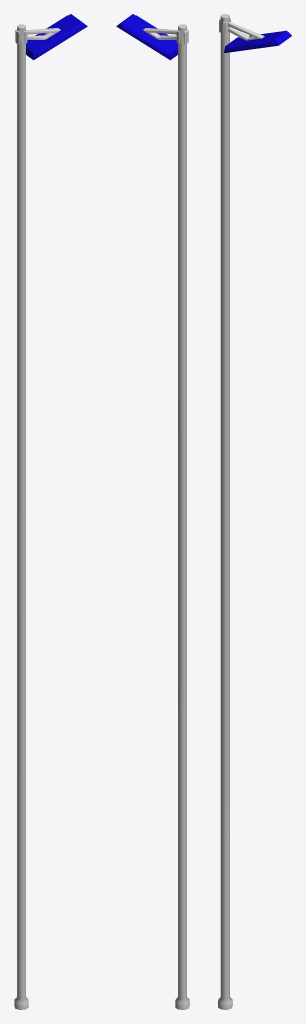
Rendered from LampPostTall.fbx.
3 views of the same model, side by side, from view 1: azimuth 30°, elevation 25°; view 2: azimuth 150°, elevation 25°; view 3: azimuth 330°, elevation 25° (orthographic).
Visible parts, largest first — view 1: Post.003, postlamptall; view 2: Post.003, postlamptall; view 3: Post.003, postlamptall.
Part boxes in pixels (box(x1,y1,x2,y2)): Post.003: box(14, 24, 28, 1009); postlamptall: box(26, 14, 87, 60); Post.003: box(175, 24, 189, 1009); postlamptall: box(116, 14, 177, 60); Post.003: box(218, 14, 232, 1009); postlamptall: box(224, 22, 291, 52).
Size of what is drawn, in the model's own units: 113 by 1606 by 45.74.
